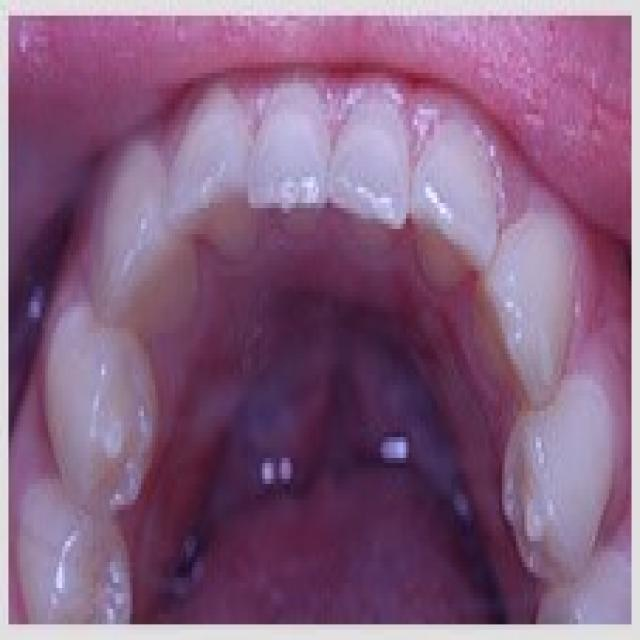tooth: (31, 333, 138, 624), (502, 395, 609, 557), (490, 198, 564, 390), (332, 94, 412, 270), (254, 78, 327, 265), (161, 93, 251, 244), (417, 120, 496, 291), (84, 177, 180, 317), (538, 594, 628, 624)
